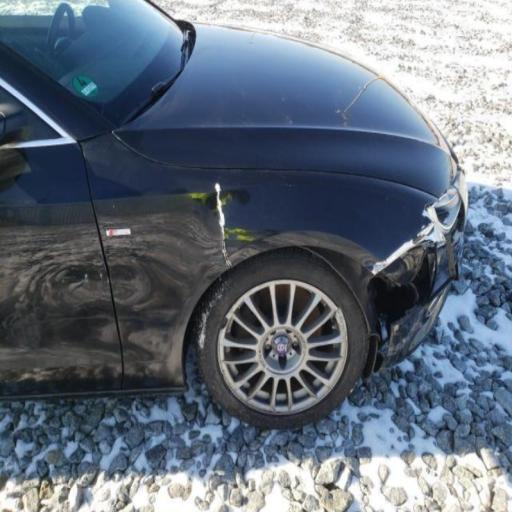scratch: (197, 168, 248, 273)
